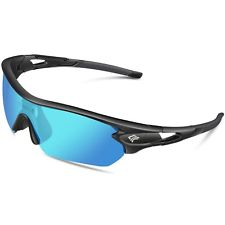sunglasses: (2, 55, 205, 173)
